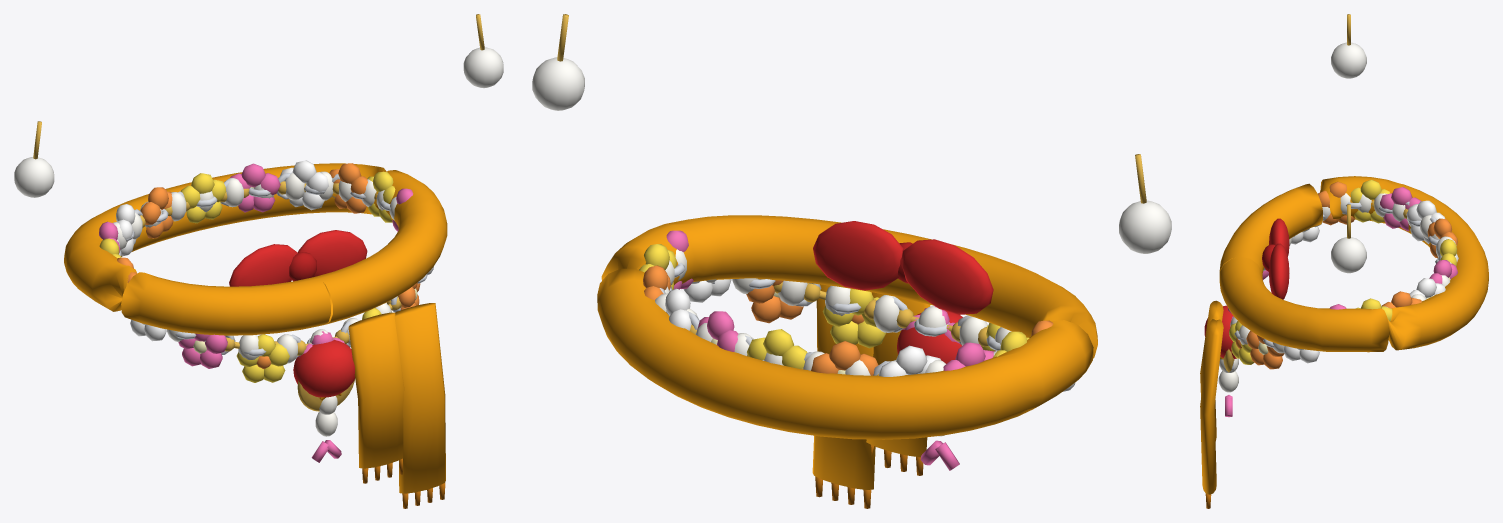
The model's file is props-j.glb.
The picture shows the model from 3 angles, left to right: view 1: azimuth 30°, elevation 25°; view 2: azimuth 150°, elevation 25°; view 3: azimuth 270°, elevation 25°; orthographic projection. The views are drawn at different scales.
Visible parts, largest first — view 1: j-scarf, j-lei, j-jasmine, j-bowtie, j-pearl, j-chain, j-gold; view 2: j-scarf, j-lei, j-bowtie, j-jasmine, j-pearl, j-chain, j-gold; view 3: j-scarf, j-lei, j-jasmine, j-pearl, j-bowtie, j-chain.
Boxes of the visible parts, box(x1,y1,x2,y2) form: j-scarf: box(64, 163, 447, 508); j-lei: box(99, 160, 433, 382); j-jasmine: box(113, 171, 401, 462); j-bowtie: box(229, 230, 367, 286); j-pearl: box(14, 14, 503, 197); j-chain: box(119, 172, 427, 359); j-gold: box(140, 181, 401, 411); j-scarf: box(597, 215, 1097, 508); j-lei: box(639, 230, 1075, 391); j-bowtie: box(813, 221, 993, 314); j-jasmine: box(655, 249, 1011, 470); j-pearl: box(532, 14, 1171, 253); j-chain: box(659, 262, 1000, 375); j-gold: box(689, 282, 988, 375); j-scarf: box(1200, 176, 1488, 508); j-lei: box(1228, 179, 1457, 369); j-jasmine: box(1204, 193, 1458, 417); j-pearl: box(1331, 14, 1366, 273); j-bowtie: box(1262, 218, 1289, 299); j-chain: box(1231, 201, 1457, 370).
Size of the model in its own units: 0.433 by 0.3404 by 0.2523.
